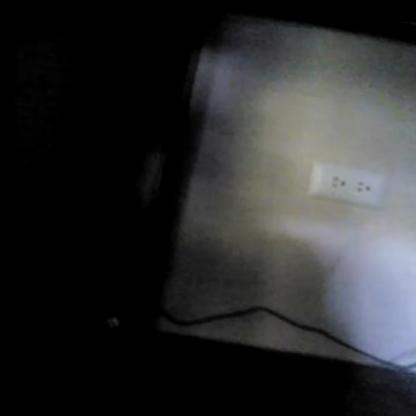OUTLET: (308, 165, 380, 206)
